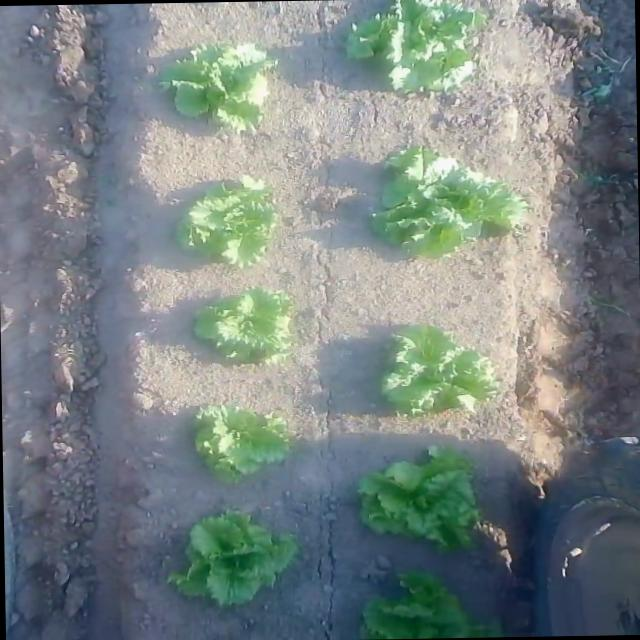Lettuce-Ready-to-Harvest: (156, 166, 283, 268), (172, 512, 306, 606), (152, 36, 284, 131), (360, 452, 489, 545), (368, 576, 506, 639)
